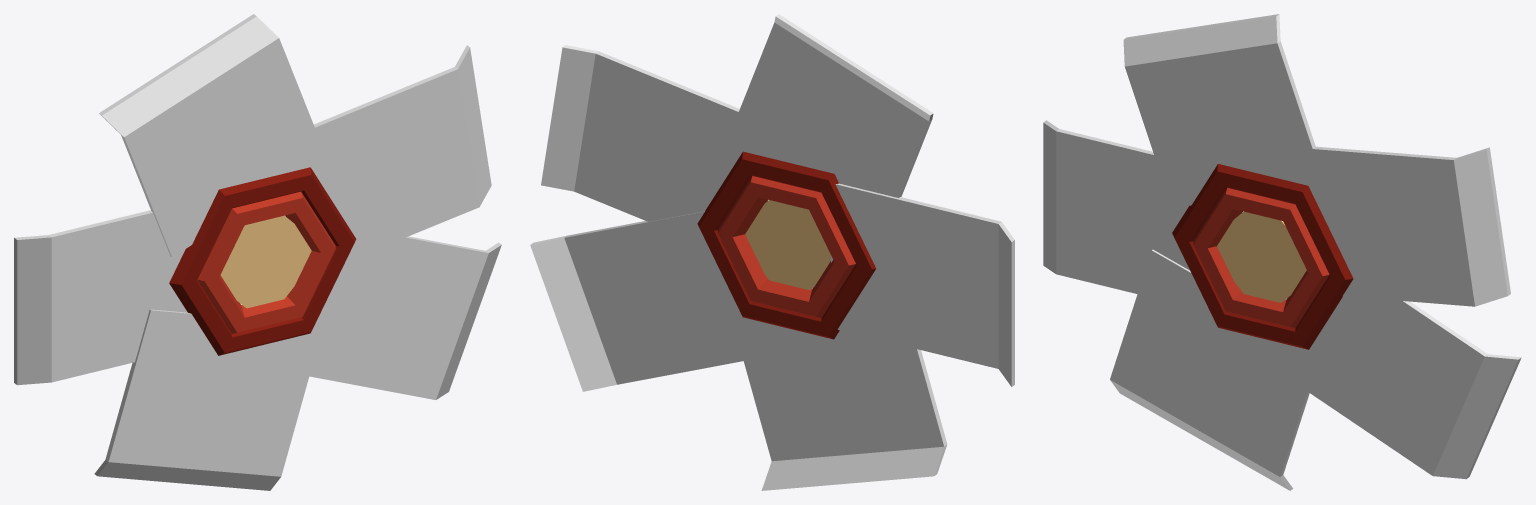
The model's file is ラフレシア.fbx.
3 renders of one model, left to right at view 1: azimuth 30°, elevation 25°; view 2: azimuth 150°, elevation 25°; view 3: azimuth 330°, elevation 25°, orthographic.
Visible parts, largest first — view 1: 立方体.004, 立方体.007, 立方体.003, 立方体.006, 立方体.001, トーラス.002, トーラス, 立方体.005; view 2: 立方体.007, 立方体.006, 立方体.003, 立方体.001, 立方体.004, トーラス.002, トーラス, 立方体.005; view 3: 立方体.003, 立方体.004, 立方体.006, 立方体.007, 立方体.001, トーラス.002, トーラス, 立方体.005.
Part boxes in pixels (bbox=[...]): 立方体.004: bbox=[99, 14, 326, 257]; 立方体.007: bbox=[94, 309, 309, 490]; 立方体.003: bbox=[311, 45, 491, 261]; 立方体.006: bbox=[281, 236, 501, 399]; 立方体.001: bbox=[14, 210, 187, 385]; トーラス.002: bbox=[169, 167, 356, 355]; トーラス: bbox=[197, 191, 335, 333]; 立方体.005: bbox=[220, 215, 311, 308]; 立方体.007: bbox=[729, 309, 947, 490]; 立方体.006: bbox=[530, 211, 764, 391]; 立方体.003: bbox=[541, 45, 760, 221]; 立方体.001: bbox=[831, 183, 1014, 386]; 立方体.004: bbox=[739, 14, 933, 197]; トーラス.002: bbox=[697, 151, 876, 339]; トーラス: bbox=[718, 176, 855, 317]; 立方体.005: bbox=[745, 200, 830, 290]; 立方体.003: bbox=[1302, 146, 1510, 306]; 立方体.004: bbox=[1123, 14, 1324, 208]; 立方体.006: bbox=[1280, 296, 1521, 479]; 立方体.007: bbox=[1110, 249, 1309, 490]; 立方体.001: bbox=[1043, 120, 1189, 293]; トーラス.002: bbox=[1172, 164, 1353, 349]; トーラス: bbox=[1193, 188, 1329, 327]; 立方体.005: bbox=[1217, 211, 1306, 302].
Size of the model in its own units: 871 by 824 by 64.72.
